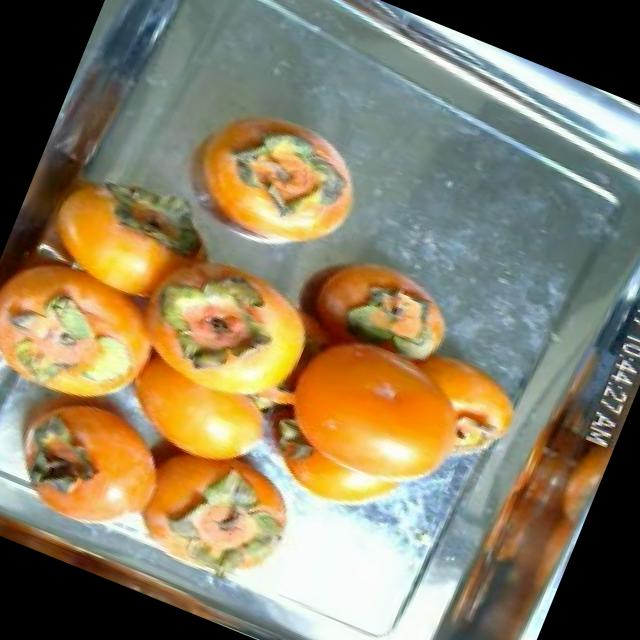Fruit: (195, 100, 386, 276)
